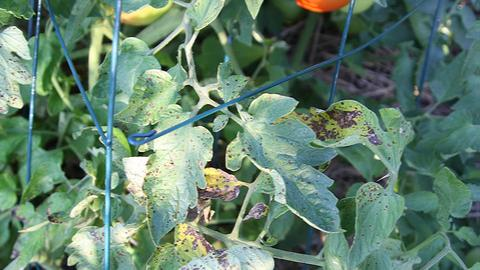Tomato Septoria leaf spot: (220, 94, 353, 235), (139, 105, 219, 248), (304, 90, 419, 170), (349, 179, 405, 270), (69, 202, 140, 270), (117, 67, 188, 131), (145, 215, 216, 270), (162, 238, 277, 270), (211, 57, 252, 104)
